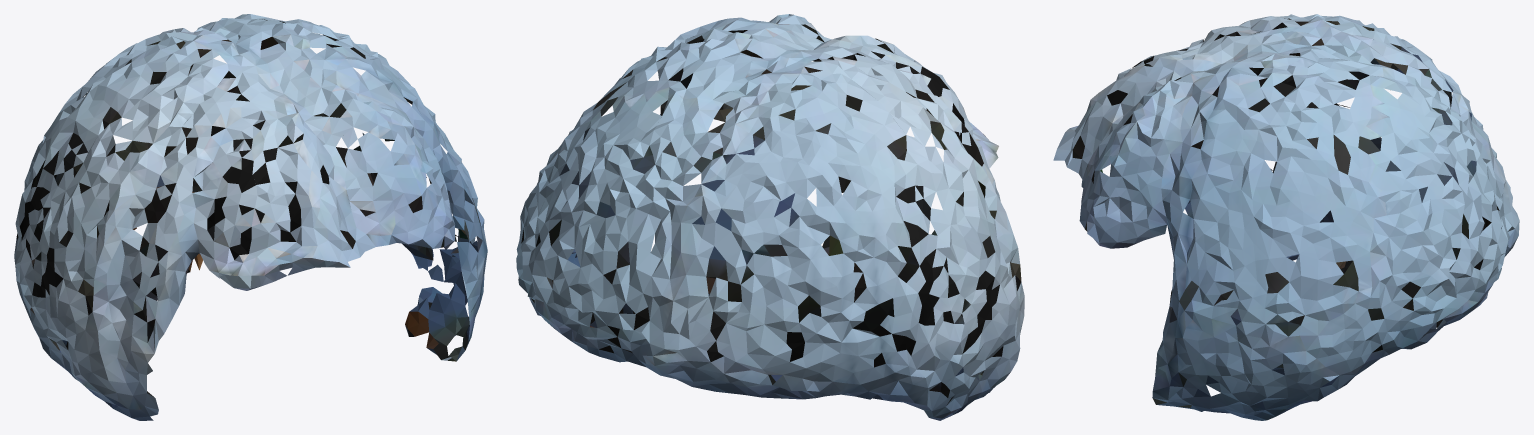
File: hairstyle_080.glb
3 views of the same model, side by side, from view 1: azimuth 30°, elevation 25°; view 2: azimuth 150°, elevation 25°; view 3: azimuth 270°, elevation 25° (orthographic). The views are drawn at different scales.
Visible parts, largest first — view 1: geometry_0_080; view 2: geometry_0_080; view 3: geometry_0_080.
Part boxes in pixels (box(x1,y1,x2,y2)): geometry_0_080: box(14, 14, 487, 420); geometry_0_080: box(516, 14, 1024, 420); geometry_0_080: box(1053, 14, 1519, 420).
Bounding box in the file's own units: 1.6 × 1.16 × 1.57.
1 material, 1 textured.
